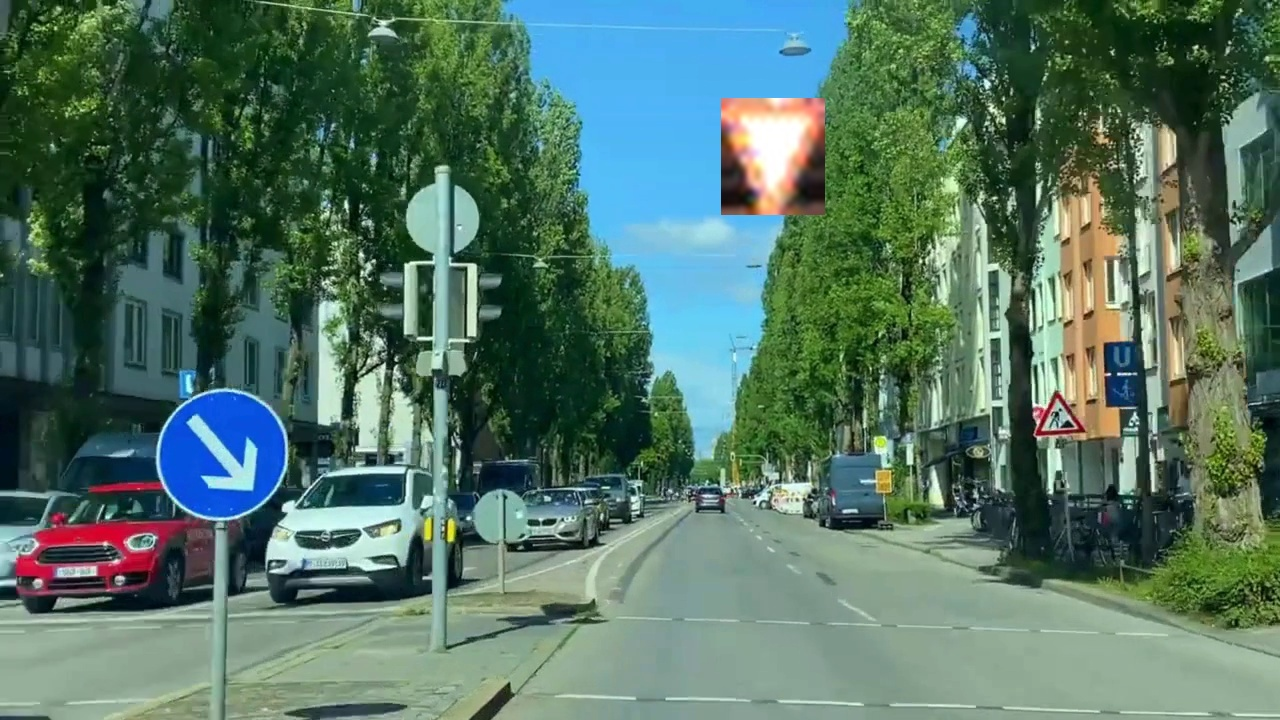Yield: (721, 98, 825, 215)
